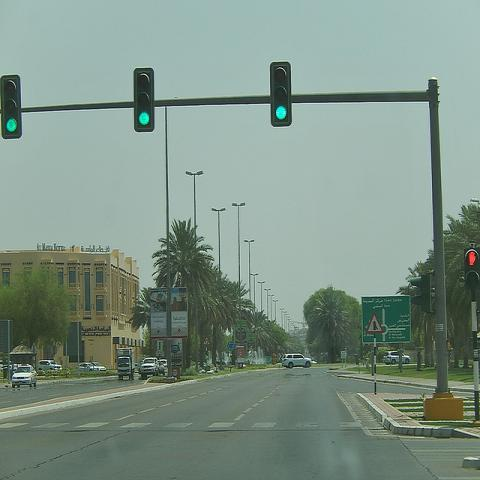car: (12, 364, 38, 388), (282, 352, 312, 369), (139, 358, 159, 378), (383, 351, 410, 365), (38, 360, 62, 372), (80, 362, 100, 371), (92, 362, 106, 371), (158, 362, 165, 376), (156, 359, 168, 367), (312, 360, 317, 364)
truck: (116, 346, 135, 380), (282, 354, 312, 368), (140, 357, 160, 378), (383, 351, 410, 365)
